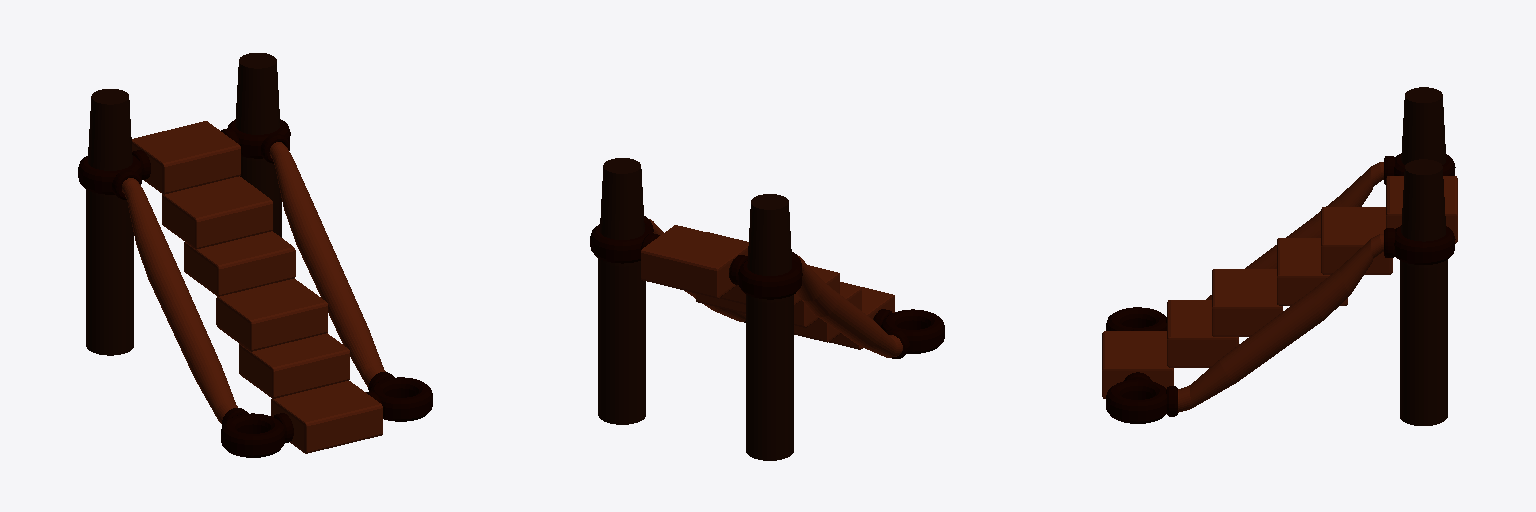
The model's file is step_wood2.obj.
3 views of the same model, side by side, from view 1: azimuth 30°, elevation 25°; view 2: azimuth 150°, elevation 25°; view 3: azimuth 270°, elevation 25° (orthographic).
Visible parts, largest first — view 1: step_wood2; view 2: step_wood2; view 3: step_wood2.
Boxes of the visible parts, box(x1,y1,x2,y2) form: step_wood2: box(78, 53, 432, 457); step_wood2: box(590, 158, 944, 460); step_wood2: box(1102, 87, 1457, 425).
Size of the model in its own units: 4.14 by 4.85 by 6.26.